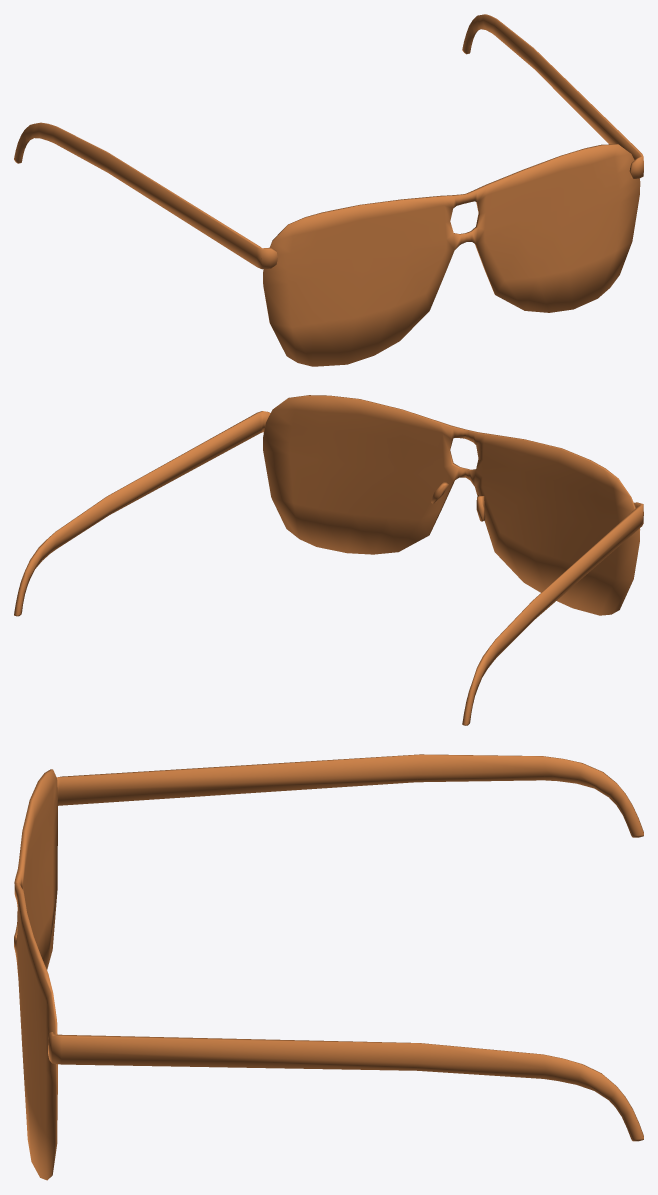
File: Sunglass.fbx
The picture shows the model from 3 angles, top to bottom: view 1: azimuth 30°, elevation 25°; view 2: azimuth 150°, elevation 25°; view 3: azimuth 270°, elevation 25°; orthographic projection. The views are drawn at different scales.
Parts seen in each view (by area): view 1: SunGlass.Low.001; view 2: SunGlass.Low.001; view 3: SunGlass.Low.001.
Boxes of the visible parts, box(x1,y1,x2,y2) form: SunGlass.Low.001: box(14, 14, 643, 366); SunGlass.Low.001: box(14, 395, 643, 725); SunGlass.Low.001: box(14, 754, 643, 1180).
Size of the model in its own units: 15.37 by 5.08 by 13.36.
